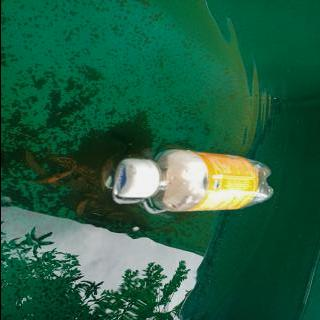bottle: (111, 150, 274, 213)
